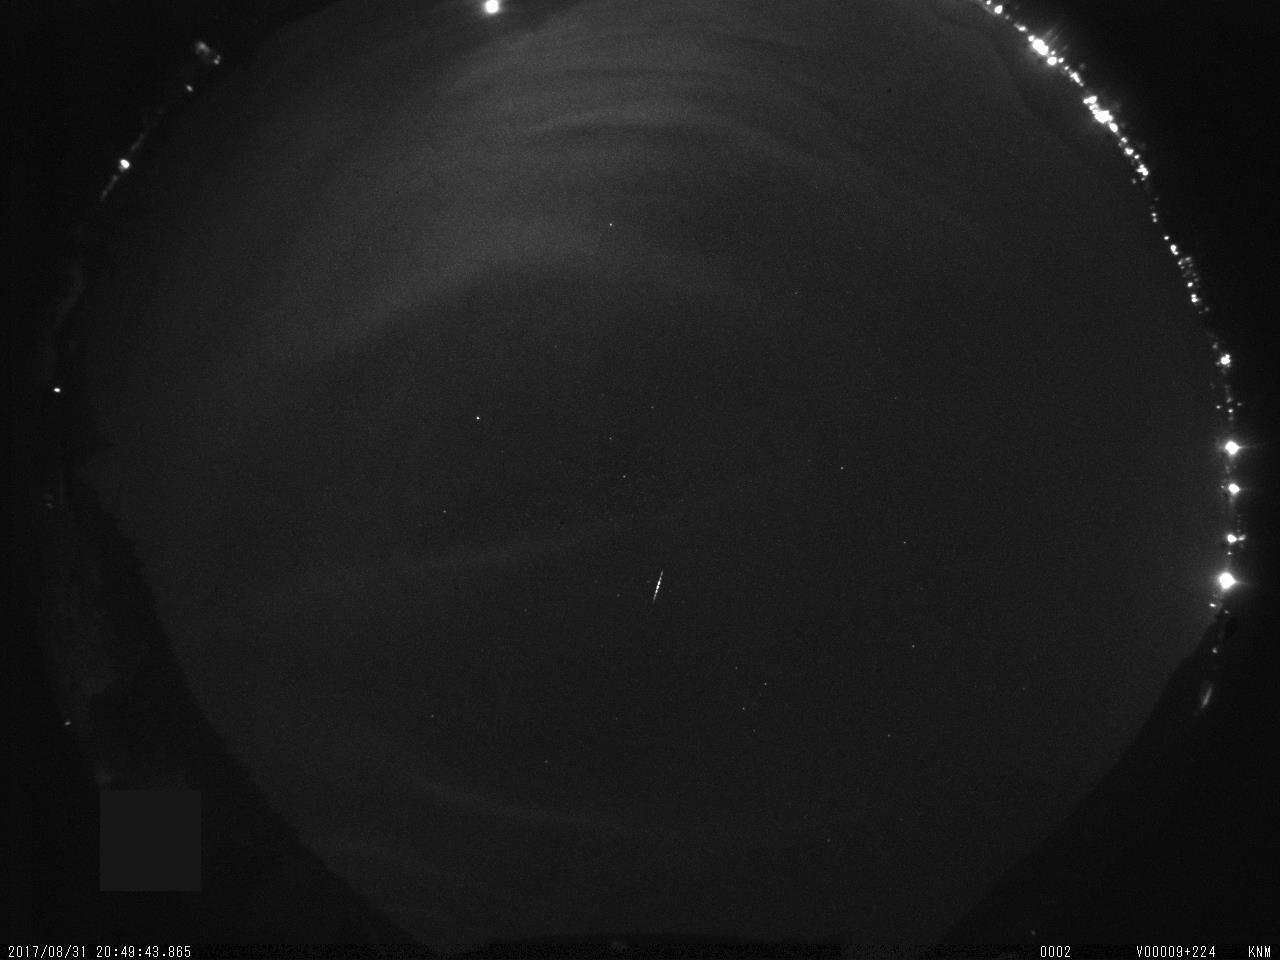Meteor: (648, 565, 667, 606)
